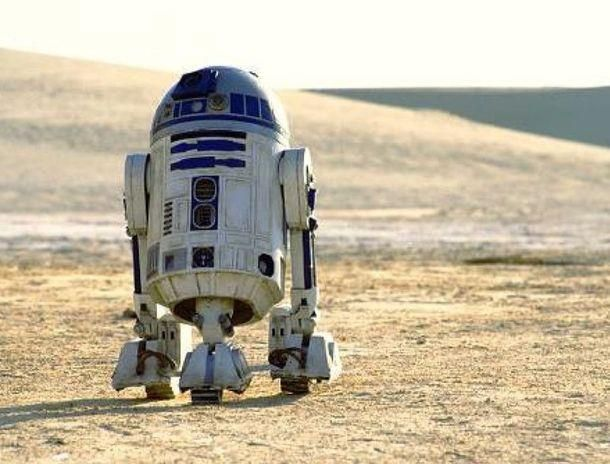r2d2: (111, 65, 343, 403)
